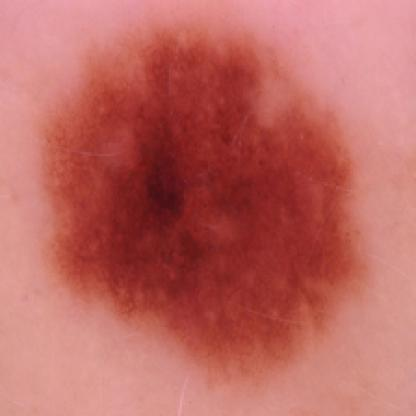benign: (58, 37, 373, 355)
